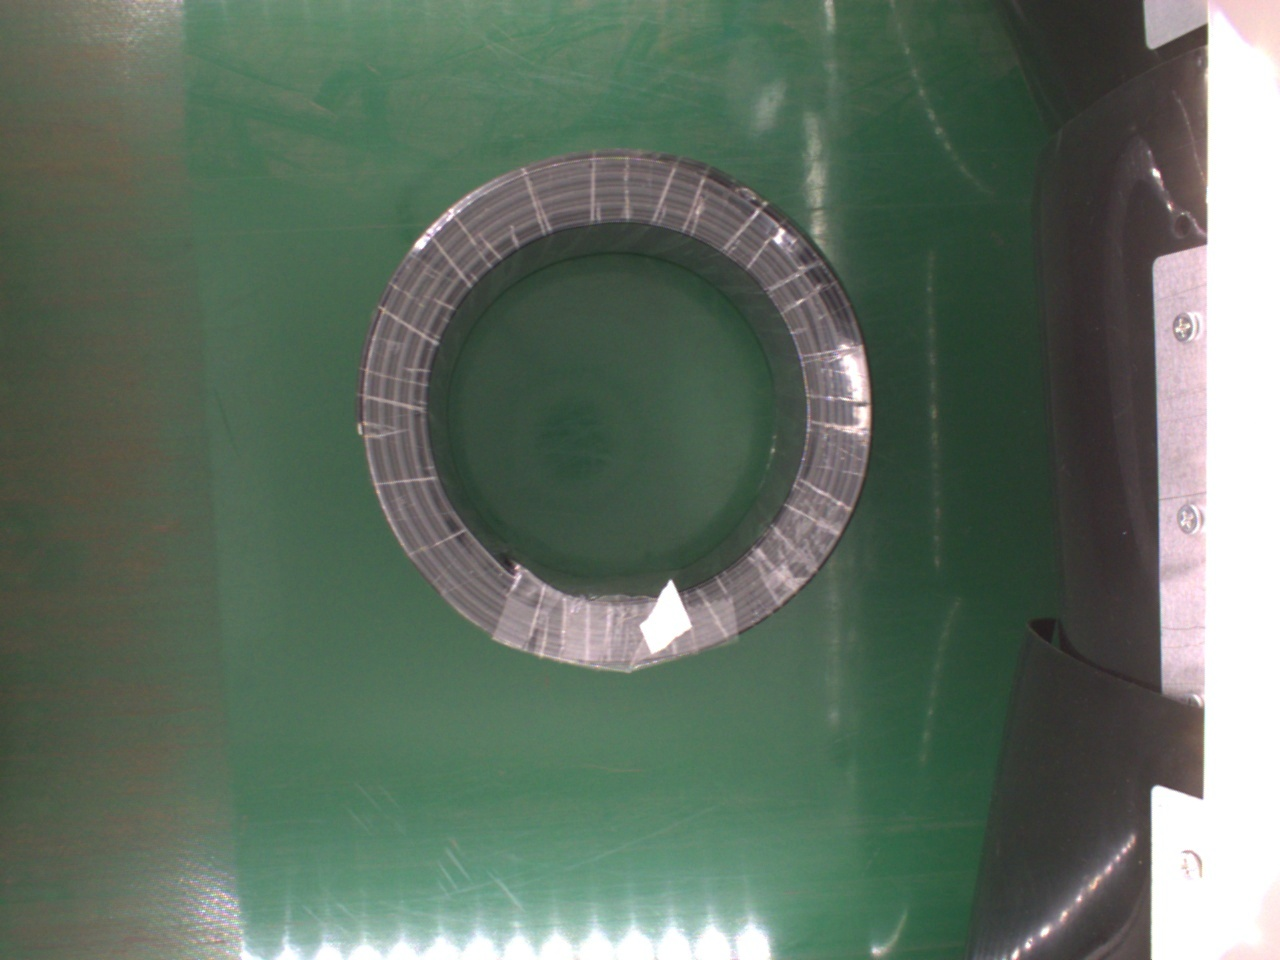black: (352, 155, 872, 674)
